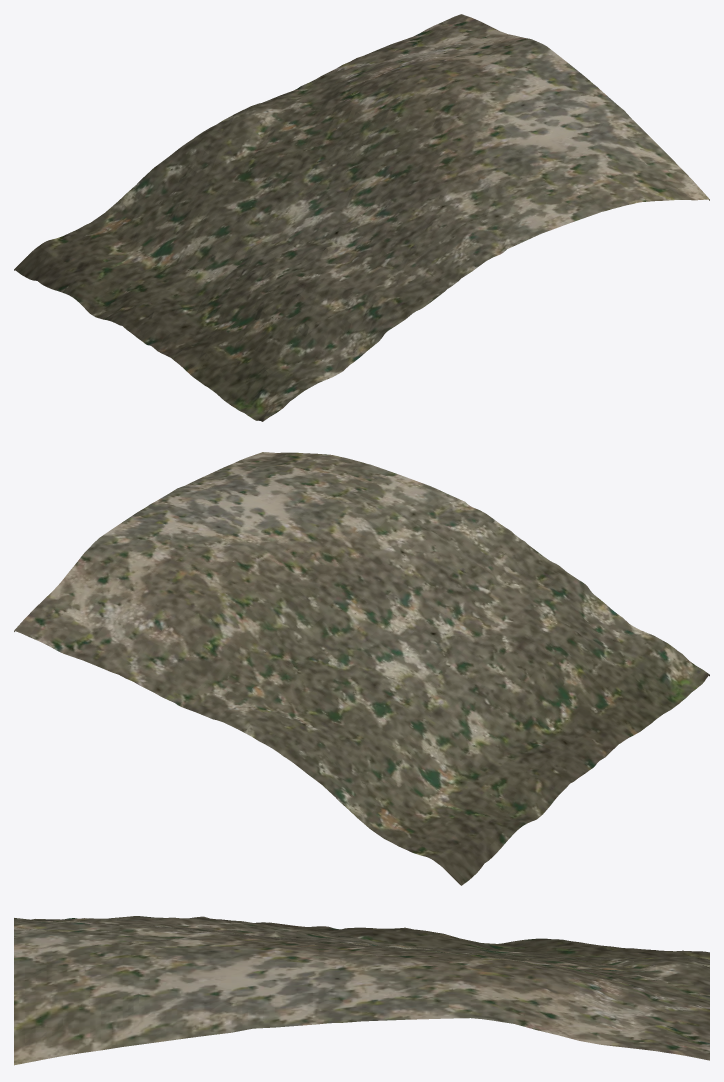
3 renders of one model, top to bottom at view 1: azimuth 30°, elevation 25°; view 2: azimuth 150°, elevation 25°; view 3: azimuth 270°, elevation 25°, orthographic. The views are drawn at different scales.
Size of the model in its own units: 250 by 95.26 by 241.
1 material, 1 textured.
